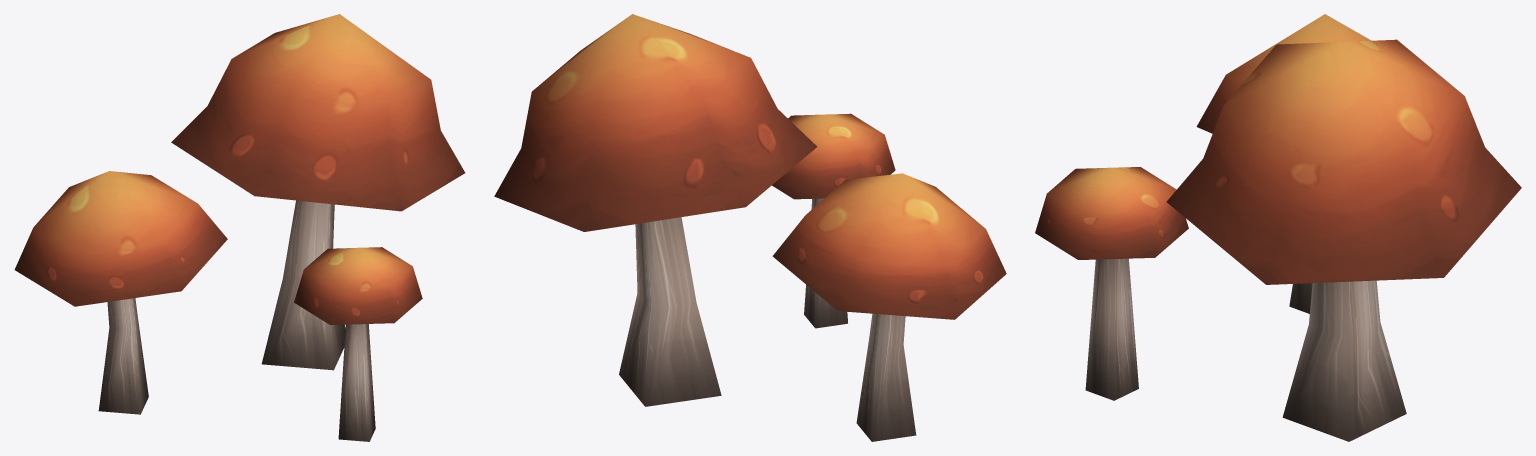
File: fungus_02.fbx
3 renders of one model, left to right at view 1: azimuth 30°, elevation 25°; view 2: azimuth 150°, elevation 25°; view 3: azimuth 270°, elevation 25°, orthographic. The views are drawn at different scales.
Visible parts, largest first — view 1: fungus_02:Mesh; view 2: fungus_02:Mesh; view 3: fungus_02:Mesh.
Boxes of the visible parts, bbox=[...] form: fungus_02:Mesh: bbox=[14, 14, 465, 441]; fungus_02:Mesh: bbox=[494, 14, 1006, 441]; fungus_02:Mesh: bbox=[1035, 14, 1521, 441].
Size of the model in its own units: 2.26 by 1.77 by 1.98.
